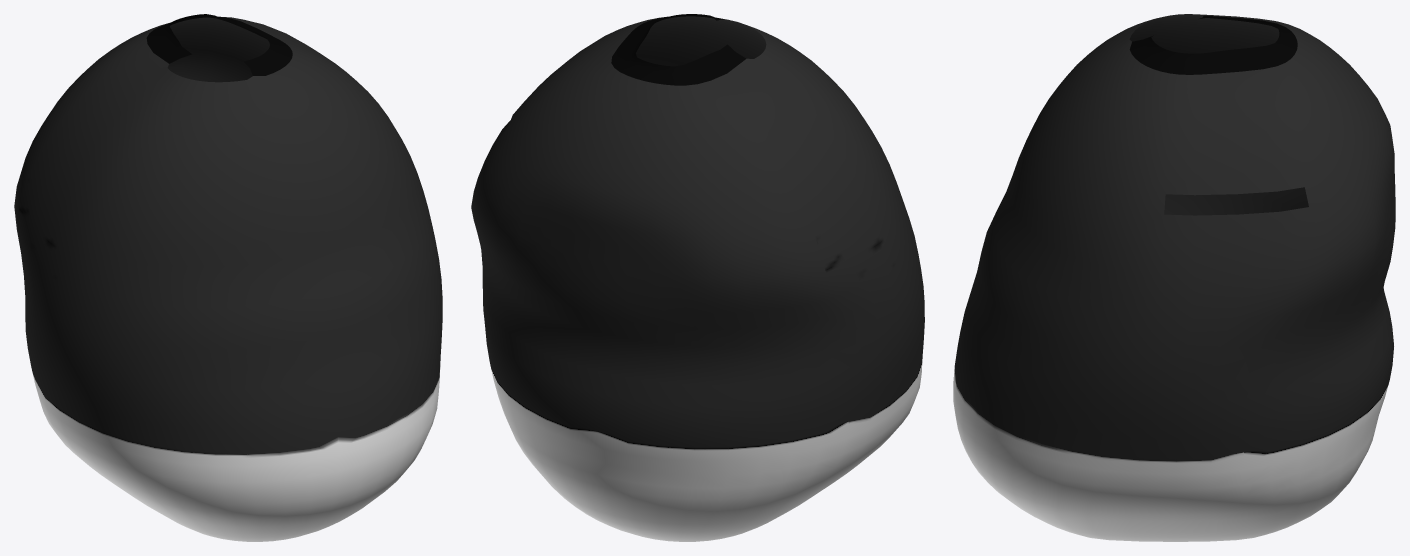
Rendered from baby body.fbx.
3 renders of one model, left to right at view 1: azimuth 30°, elevation 25°; view 2: azimuth 150°, elevation 25°; view 3: azimuth 270°, elevation 25°, orthographic. The views are drawn at different scales.
Visible parts, largest first — view 1: pSphere10; view 2: pSphere10; view 3: pSphere10.
Boxes of the visible parts, x1,y1,x2,y2 form: pSphere10: (14,14,442,541); pSphere10: (471,14,924,541); pSphere10: (953,14,1395,541).
Size of the model in its own units: 1.56 by 1.84 by 1.51.
Materials: 1 (1 with a texture image).
